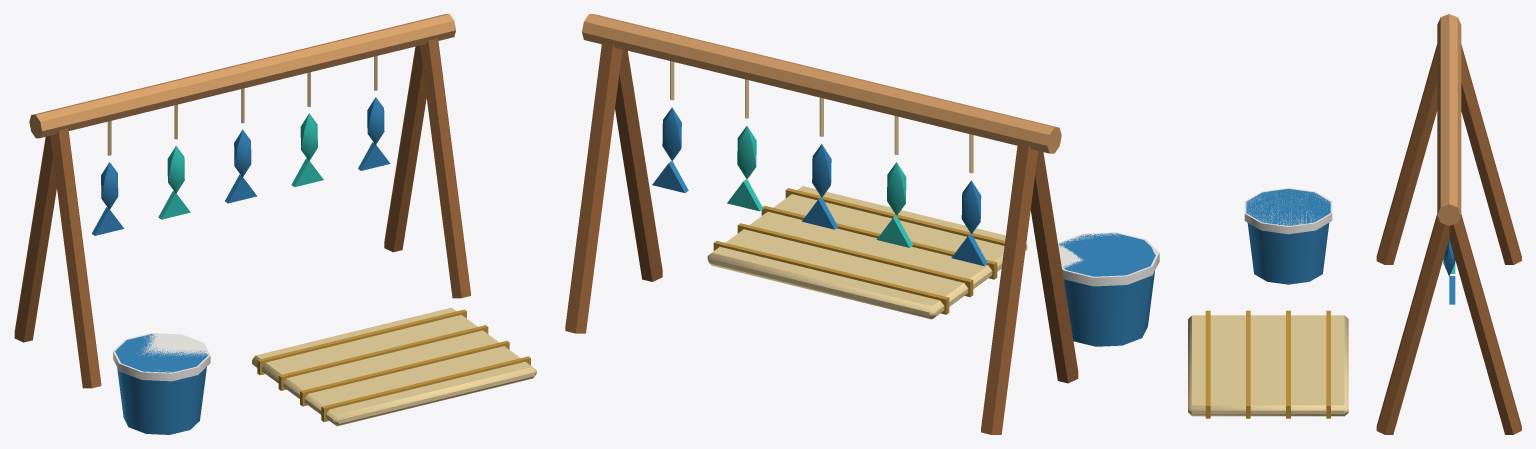
Rendered from home_fishrack.fbx.
3 views of the same model, side by side, from view 1: azimuth 30°, elevation 25°; view 2: azimuth 150°, elevation 25°; view 3: azimuth 270°, elevation 25° (orthographic). The views are drawn at different scales.
Visible parts, largest first — view 1: home_fishrack; view 2: home_fishrack; view 3: home_fishrack.
Part boxes in pixels (<box>): home_fishrack: <box>14,14,536,434</box>; home_fishrack: <box>565,14,1159,434</box>; home_fishrack: <box>1188,14,1521,434</box>.
Bounding box in the file's own units: 1.12 × 0.6554 × 0.831.
